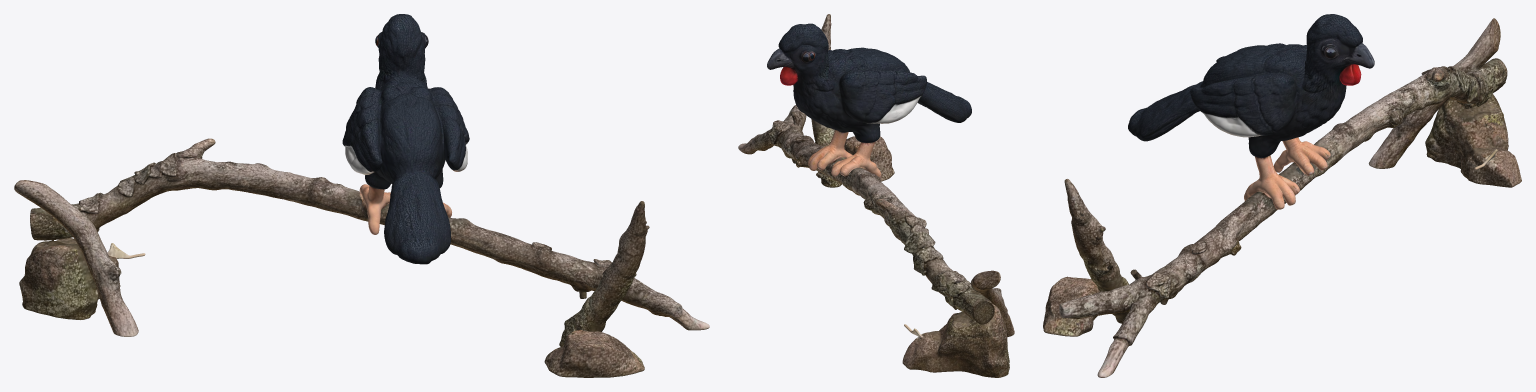
Rendered from peluche_pequeño_de_pava_aliblanca.glb.
The picture shows the model from 3 angles, left to right: view 1: azimuth 30°, elevation 25°; view 2: azimuth 150°, elevation 25°; view 3: azimuth 270°, elevation 25°; orthographic projection. The views are drawn at different scales.
Parts seen in each view (by area): view 1: tripo_node_b6201c21-cb26-4dfc-81ac-ef96a87efd58; view 2: tripo_node_b6201c21-cb26-4dfc-81ac-ef96a87efd58; view 3: tripo_node_b6201c21-cb26-4dfc-81ac-ef96a87efd58.
Boxes of the visible parts, <box> form: tripo_node_b6201c21-cb26-4dfc-81ac-ef96a87efd58: <box>14,14,709,377</box>; tripo_node_b6201c21-cb26-4dfc-81ac-ef96a87efd58: <box>738,14,1014,377</box>; tripo_node_b6201c21-cb26-4dfc-81ac-ef96a87efd58: <box>1043,14,1521,377</box>.
Bounding box in the file's own units: 32767 × 17118 × 27555.
Materials: 1 (1 with a texture image).
